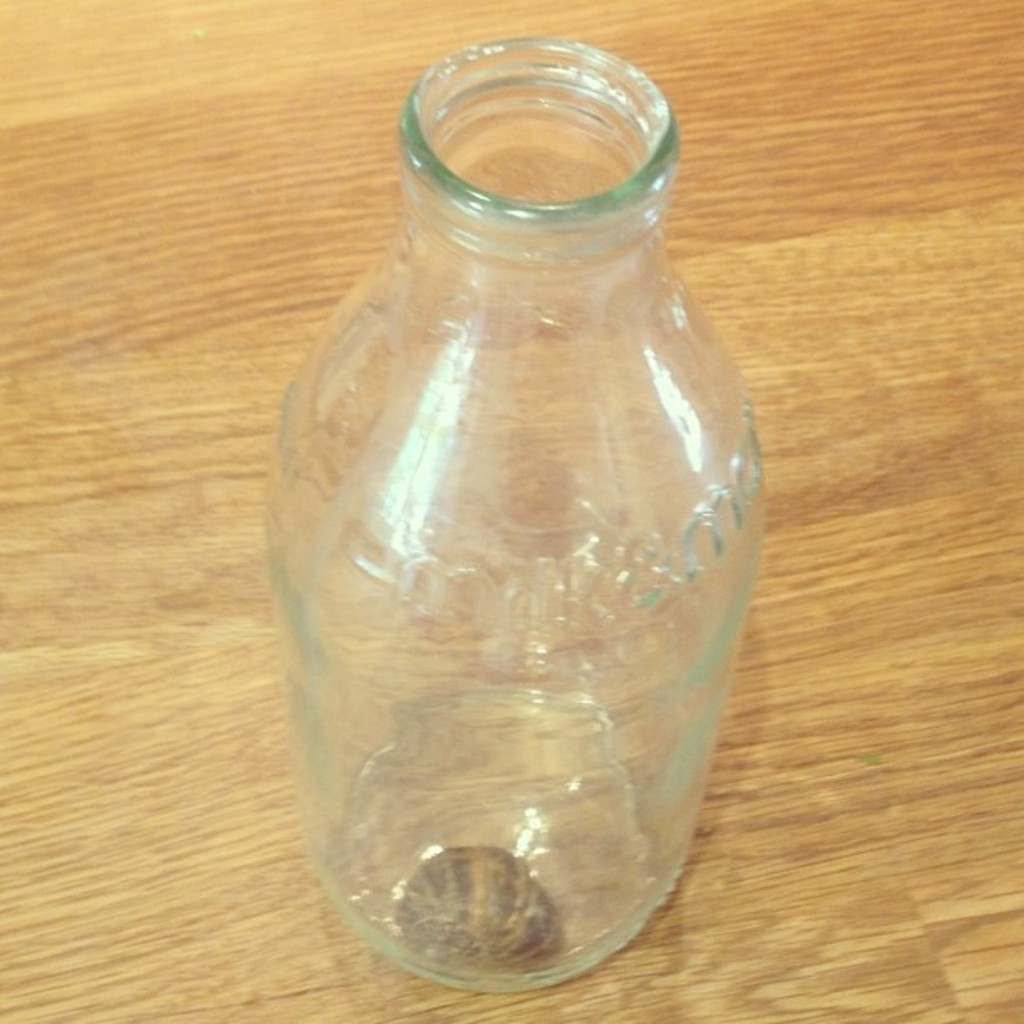can: (262, 33, 760, 985)
